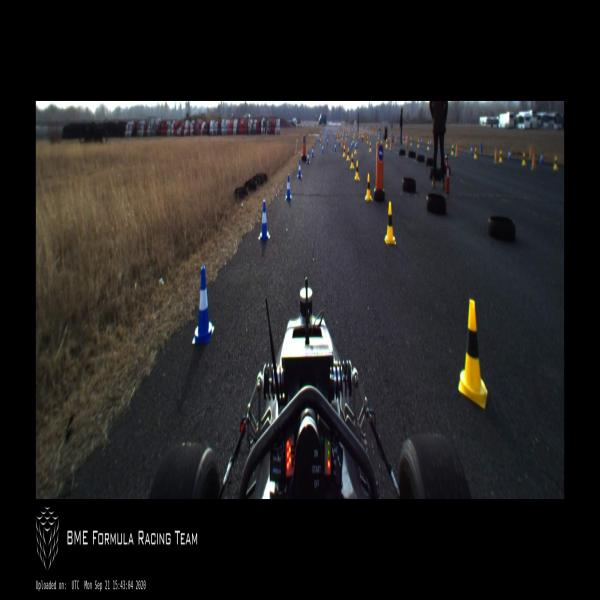blue_cone: (192, 267, 214, 343), (259, 201, 270, 240), (286, 175, 291, 199), (297, 161, 302, 179), (306, 150, 309, 163), (508, 149, 511, 162), (540, 152, 543, 165), (311, 146, 314, 157), (334, 142, 337, 152), (322, 143, 324, 153)
unknown_cone: (531, 152, 536, 170), (494, 148, 497, 163), (455, 143, 458, 157), (390, 139, 392, 150)
yellow_cone: (459, 300, 487, 409), (384, 202, 396, 244), (365, 175, 372, 201), (354, 160, 360, 181), (522, 151, 526, 166), (554, 156, 558, 170), (499, 150, 503, 162), (474, 146, 477, 159), (451, 144, 454, 156), (369, 142, 372, 153), (343, 146, 346, 156), (351, 153, 353, 168), (427, 140, 430, 150), (354, 144, 357, 154), (347, 148, 349, 160), (418, 139, 420, 148), (386, 139, 388, 148)
